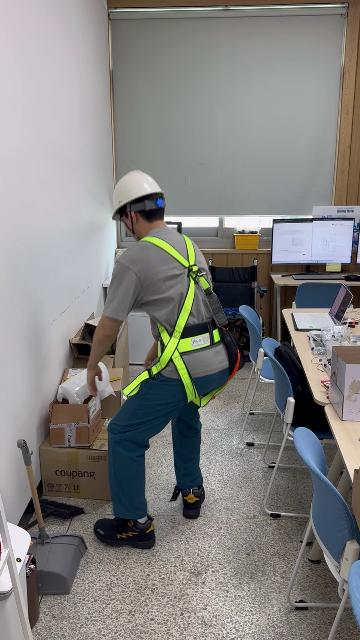helmet_worn: (109, 169, 165, 220)
shoe_worn: (93, 514, 155, 548), (180, 484, 204, 519)
vest_worn: (129, 239, 234, 404)
